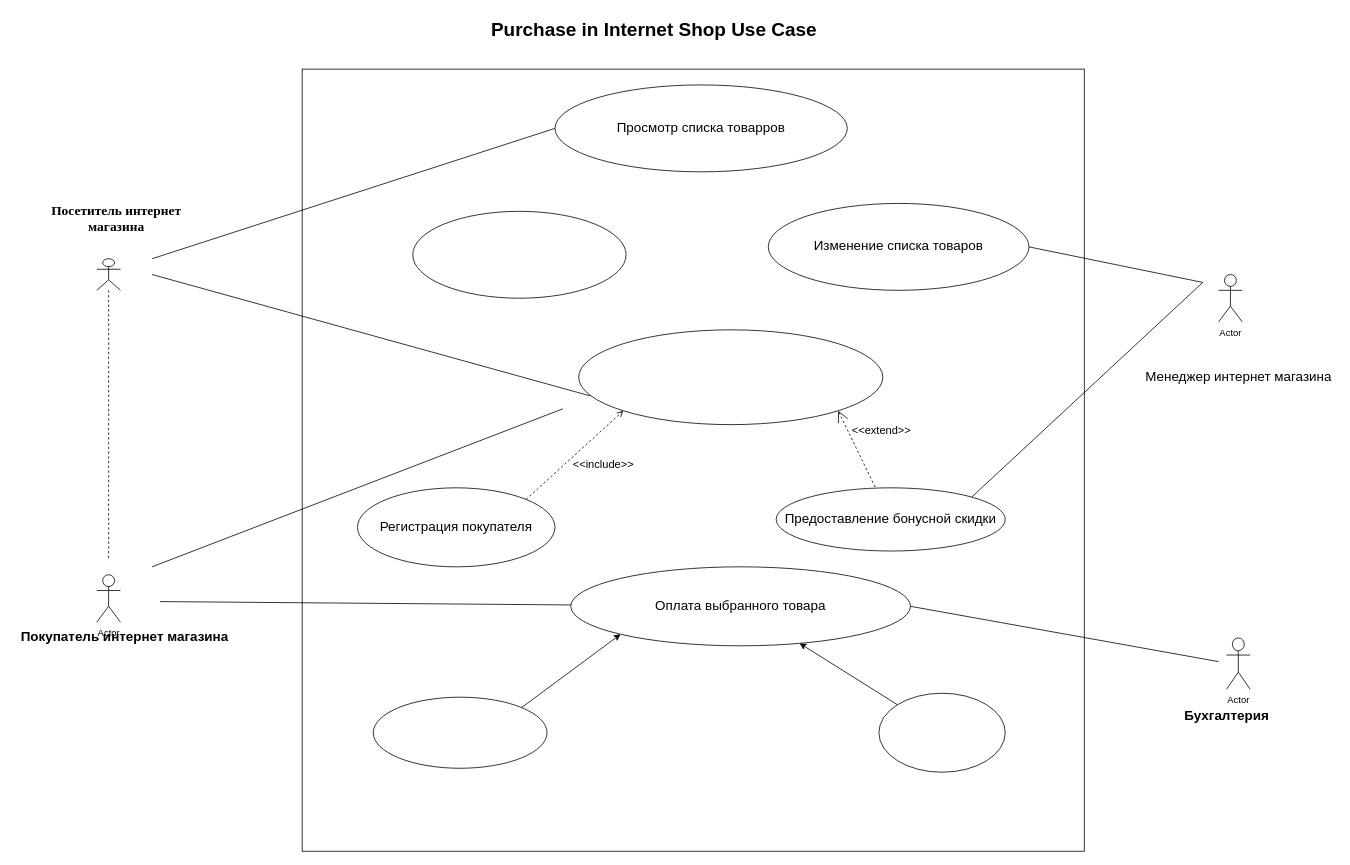
This 1350x865 diagram has some shape labels left out. The shapes that lost their labels are listed below. From the top down, each one's centre as x and y in pixels, then its label:
At (519,254): "Составление и изменение покупательской корзины".
At (730,377): "Оформление Заказа на покупку товаров".
At (459,732): "Оплата наличными при получении товара".
At (941,732): "Онлайн оплата кредитной картой".
